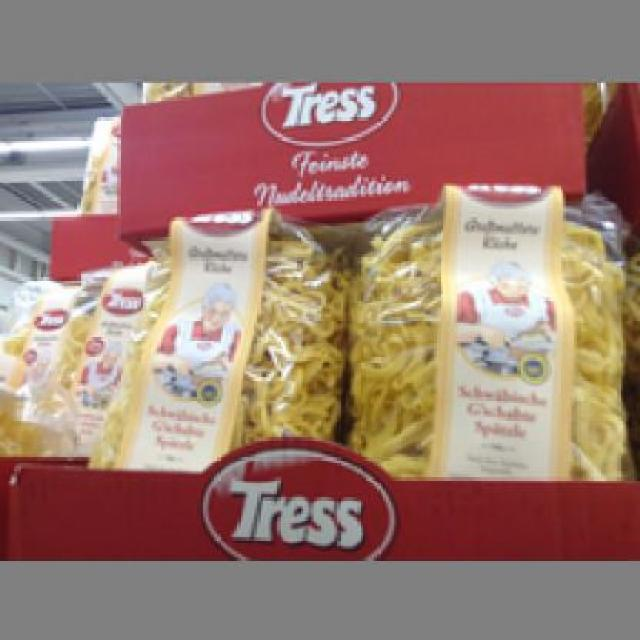Pasta: (346, 192, 628, 474), (100, 232, 340, 468)
